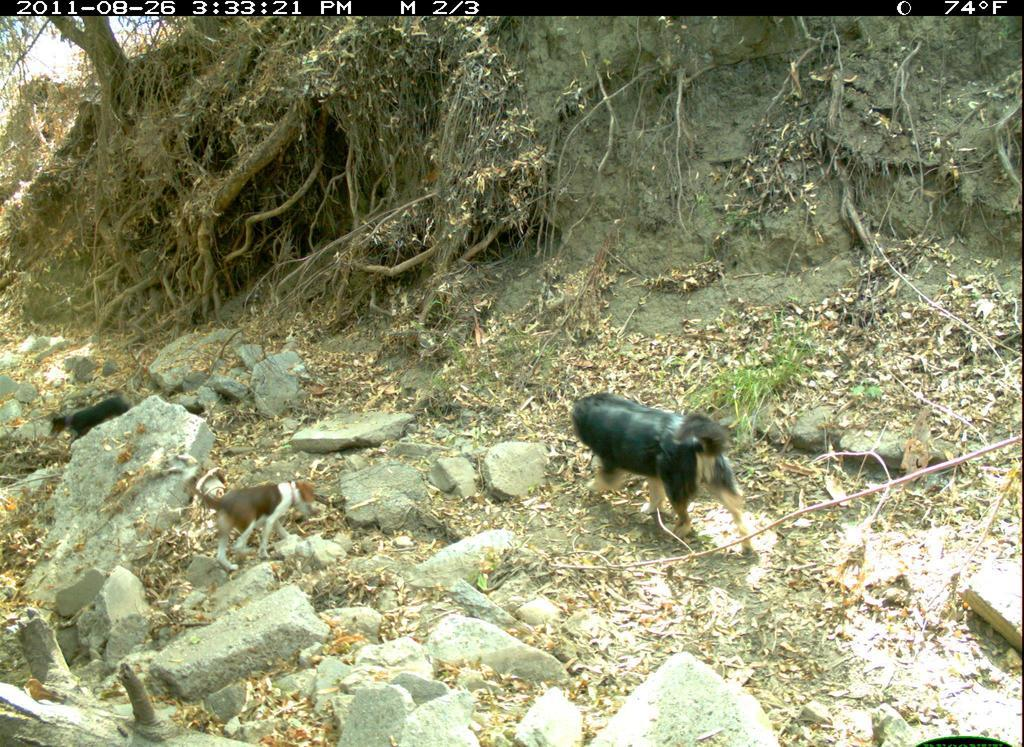dog: (557, 386, 765, 565), (194, 468, 329, 579), (44, 386, 134, 459)
